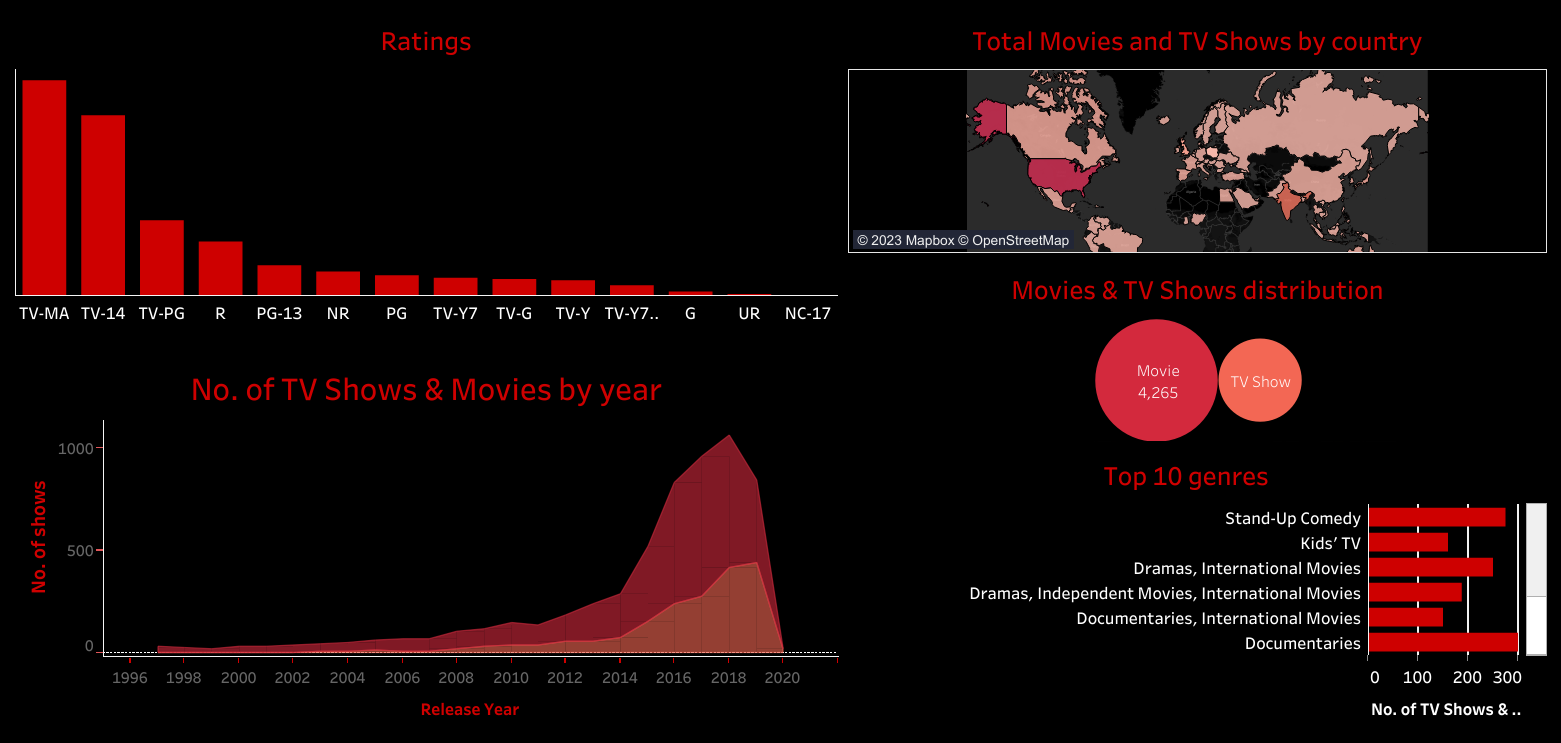

What the dashboard file says about the page in this screenshot:
{"tool":"tableau","page":{"name":"Dashboard 1","canvas":[1000,1000],"units":"permille","ordinal":0},"visuals":[{"type":"worksheet","title":"Sheet 5","mark":"Automatic","rows":["show_id"],"cols":["rating"],"box":[6.4,7.5,532.8,467]},{"type":"worksheet","title":"Sheet 2","mark":"Multipolygon","box":[539.2,7.5,454.4,338.7]},{"type":"worksheet","title":"Sheet 4","mark":"Circle","box":[539.2,346.2,454.4,253.8]},{"type":"worksheet","title":"Sheet 1","mark":"Area","rows":["show_id"],"cols":["release_year"],"box":[6.4,474.5,532.8,517.9]},{"type":"worksheet","title":"Sheet 3","mark":"Automatic","rows":["listed_in"],"cols":["show_id"],"box":[539.2,600,454.4,392.4]}]}

Visuals, with their boxes on the dashboard's canvas, which has no fixed pixel size, in thousandths of its width and height (x1, y1, x2, y2). These are canvas units, not pixel positions in the 1561x743 screenshot, which may show the page scaled, cropped or inside an application window:
"Sheet 5" worksheet: (x1=6, y1=8, x2=539, y2=474)
"Sheet 2" worksheet (Multipolygon marks): (x1=539, y1=8, x2=994, y2=346)
"Sheet 4" worksheet (Circle marks): (x1=539, y1=346, x2=994, y2=600)
"Sheet 1" worksheet (Area marks): (x1=6, y1=474, x2=539, y2=992)
"Sheet 3" worksheet: (x1=539, y1=600, x2=994, y2=992)
